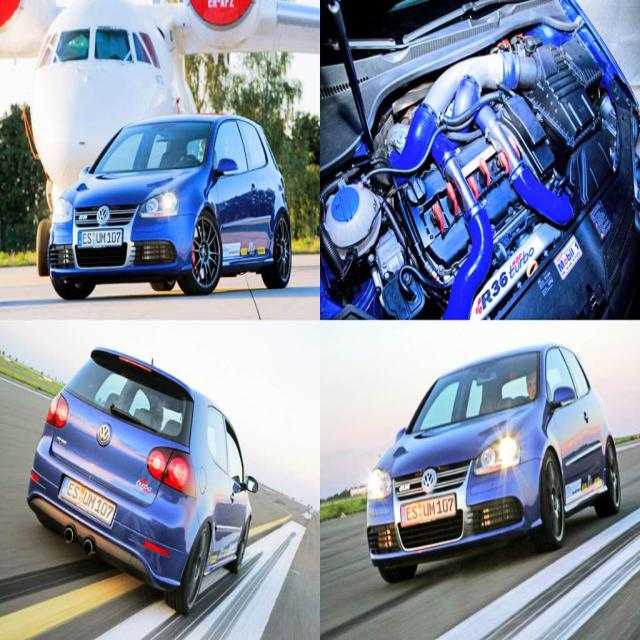car: (24, 339, 259, 616), (361, 344, 617, 585), (48, 114, 293, 290)
